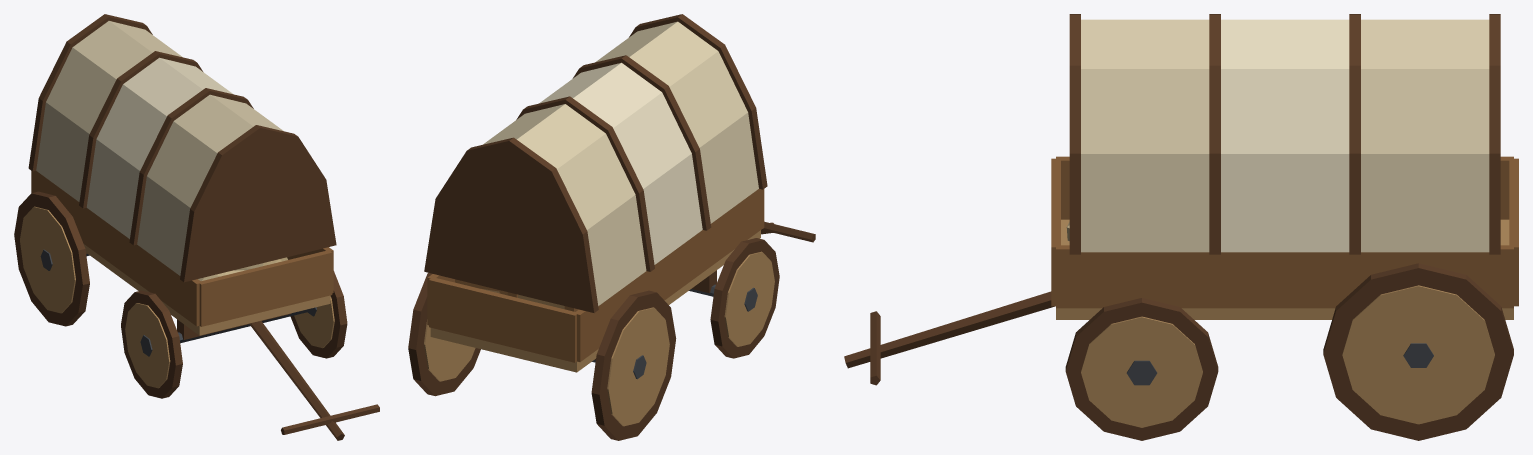
The model's file is wagon.glb.
The picture shows the model from 3 angles, left to right: view 1: azimuth 30°, elevation 25°; view 2: azimuth 150°, elevation 25°; view 3: azimuth 270°, elevation 25°; orthographic projection. The views are drawn at different scales.
Parts seen in each view (by area): view 1: wagon; view 2: wagon; view 3: wagon.
Part boxes in pixels (<box>): wagon: <box>14,14,379,440</box>; wagon: <box>408,14,815,440</box>; wagon: <box>844,14,1518,440</box>.
Bounding box in the file's own units: 1.48 × 2.13 × 3.54.
